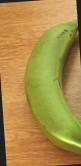Banana Unripe: (15, 11, 81, 158)
